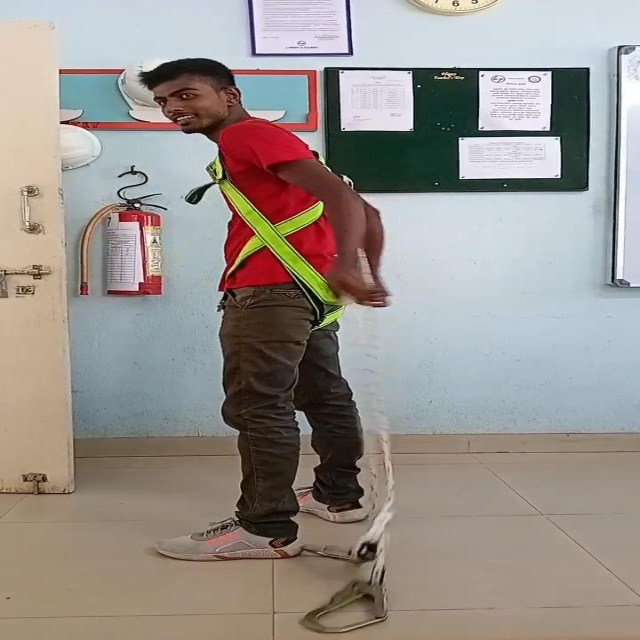Arnes_seguridad: (179, 124, 370, 349)
